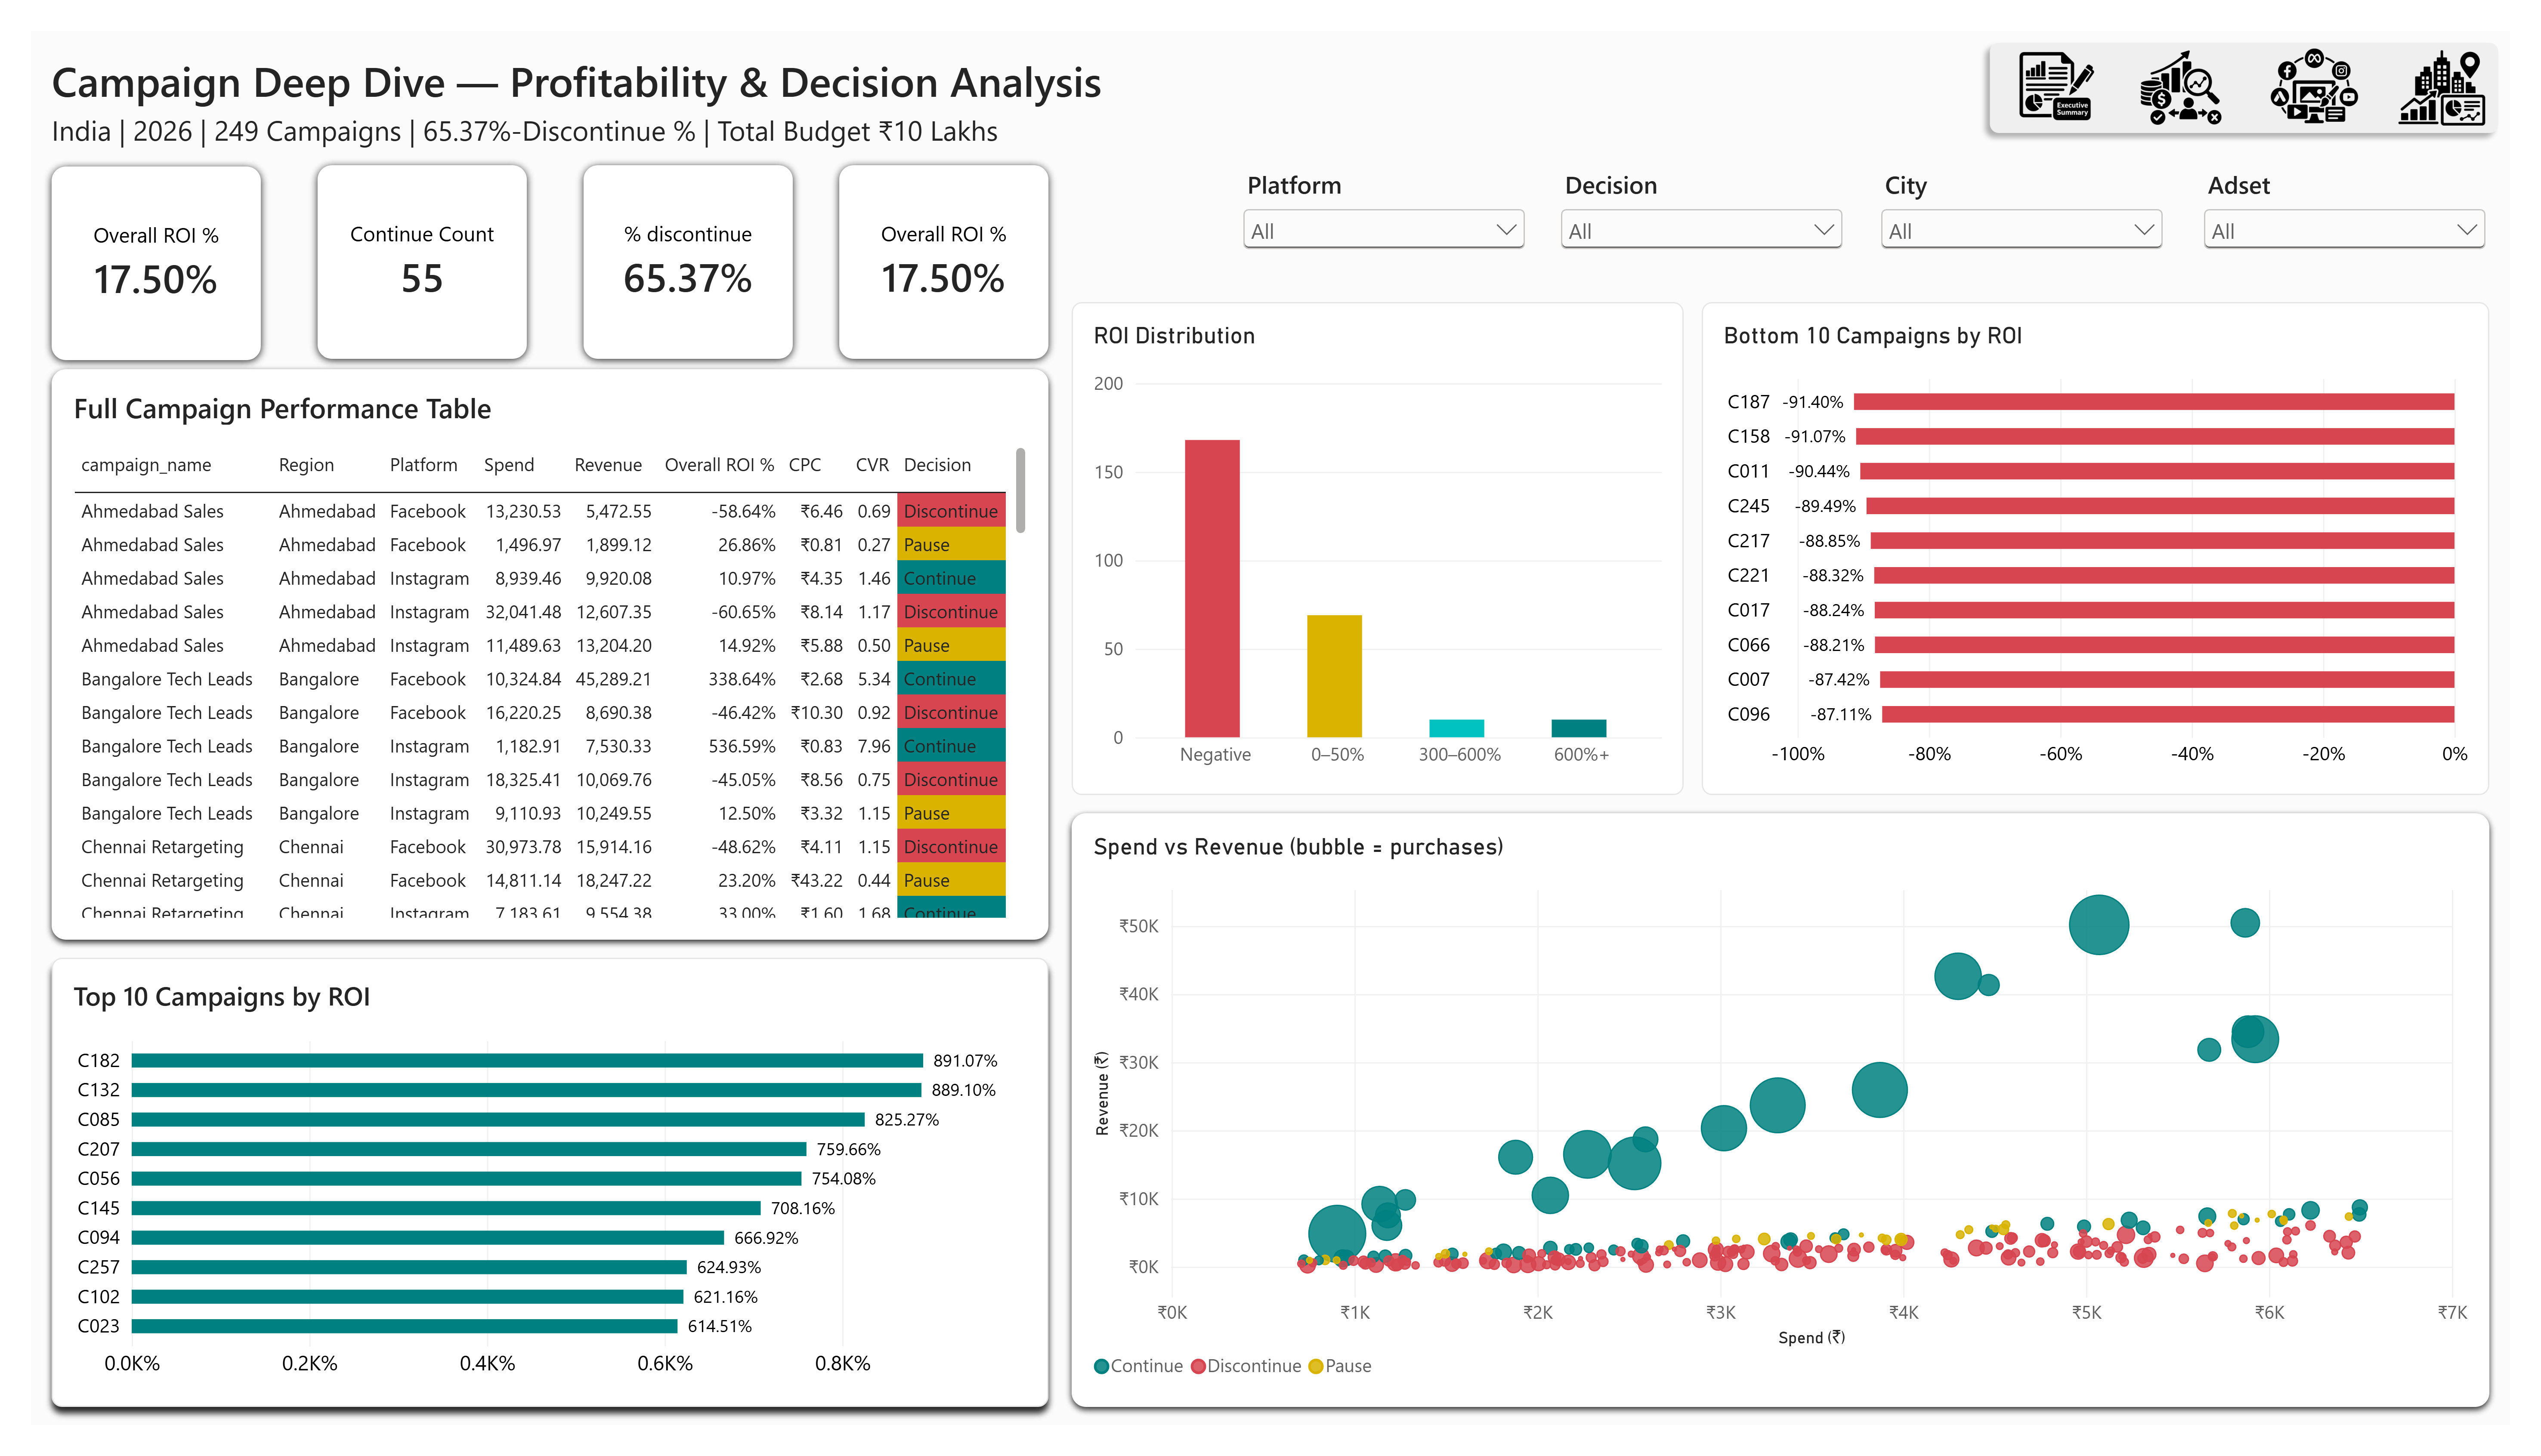

Layout of this report page (visuals, bound fields, positions):
{"tool":"powerbi","page":{"name":"Profitability & Decision Analysis","canvas":[1920,1080],"ordinal":1},"visuals":[{"type":"textbox","box":[16,16,1062,45],"z":0},{"type":"tableEx","title":"Full Campaign Performance Table","fields":{"Values":["MetaAds.campaign_name","MetaAds.region","MetaAds.platform","Sum(MetaAds.spend)","Sum(MetaAds.revenue)","MetaAds.Overall ROI %","MetaAds.Avg CPC","MetaAds.Avg CVR","MetaAds.Decision"]},"box":[16,262,772,442],"z":1000},{"type":"textbox","box":[16,62,822,40],"z":2000},{"type":"clusteredBarChart","title":"Top 10 Campaigns by ROI","fields":{"Category":["MetaAds.campaign_id"],"Y":["MetaAds.Overall ROI %"]},"box":[16,718,772,348],"z":3000},{"type":"slicer","fields":{"Values":["MetaAds.adset"]},"box":[1678,106,228,86],"z":4000},{"type":"slicer","fields":{"Values":["MetaAds.region"]},"box":[1428,106,228,86],"z":5000},{"type":"slicer","fields":{"Values":["MetaAds.Decision"]},"box":[1180,106,228,86],"z":6000},{"type":"slicer","fields":{"Values":["MetaAds.platform"]},"box":[934,106,228,86],"z":7000},{"type":"scatterChart","title":"Spend vs Revenue (bubble = purchases)","fields":{"Category":["MetaAds.campaign_id"],"Series":["MetaAds.Decision"],"Size":["MetaAds.Total Purchases"],"X":["MetaAds.Total Spend"],"Y":["MetaAds.Total Revenue"]},"box":[806,606,1098,460],"z":8000},{"type":"clusteredBarChart","title":"Bottom 10 Campaigns by ROI","fields":{"Category":["MetaAds.campaign_id"],"Y":["MetaAds.Overall ROI %"]},"box":[1294,210,610,382],"z":9000},{"type":"cardVisual","fields":{"Data":["MetaAds.Overall ROI %"]},"box":[16,105,162,150],"z":10000},{"type":"cardVisual","fields":{"Data":["MetaAds.Continue Count"]},"box":[222,104,162,150],"z":11000},{"type":"cardVisual","fields":{"Data":["MetaAds.% discontinue"]},"box":[428,104,162,150],"z":12000},{"type":"cardVisual","fields":{"Data":["MetaAds.Overall ROI %"]},"box":[626,104,162,150],"z":13000},{"type":"clusteredColumnChart","title":"ROI Distribution","fields":{"Category":["MetaAds.ROI Bucket"],"Y":["MetaAds.Campaign Count"]},"box":[806,210,474,382],"z":14000},{"type":"shape","box":[1508,0,412,88],"z":15000},{"type":"image","box":[1830,7,75,75],"z":16000},{"type":"image","box":[1731,7,75,75],"z":17000},{"type":"image","box":[1530,7,75,75],"z":18000},{"type":"image","box":[1627,7,75,75],"z":19000}]}

Visuals, with their boxes in screenshot pixels (x1, y1, x2, y2), scaled from the page's 1920x1080 canvas onto the 2541x1456 screenshot:
textbox: 21 22 1427 82
"Full Campaign Performance Table" tableEx: 21 353 1043 949
textbox: 21 83 1109 138
"Top 10 Campaigns by ROI" clusteredBarChart: 21 968 1043 1437
slicer - MetaAds.adset: 2221 143 2522 259
slicer - MetaAds.region: 1890 143 2192 259
slicer - MetaAds.Decision: 1561 143 1864 259
slicer - MetaAds.platform: 1236 143 1538 259
"Spend vs Revenue (bubble = purchases)" scatterChart: 1066 817 2520 1437
"Bottom 10 Campaigns by ROI" clusteredBarChart: 1713 283 2520 798
cardVisual - MetaAds.Overall ROI %: 21 142 235 344
cardVisual - MetaAds.Continue Count: 294 140 508 342
cardVisual - MetaAds.% discontinue: 566 140 781 342
cardVisual - MetaAds.Overall ROI %: 828 140 1043 342
"ROI Distribution" clusteredColumnChart: 1066 283 1694 798
shape: 1996 0 2541 119
image: 2422 9 2521 111
image: 2291 9 2390 111
image: 2025 9 2124 111
image: 2153 9 2253 111
